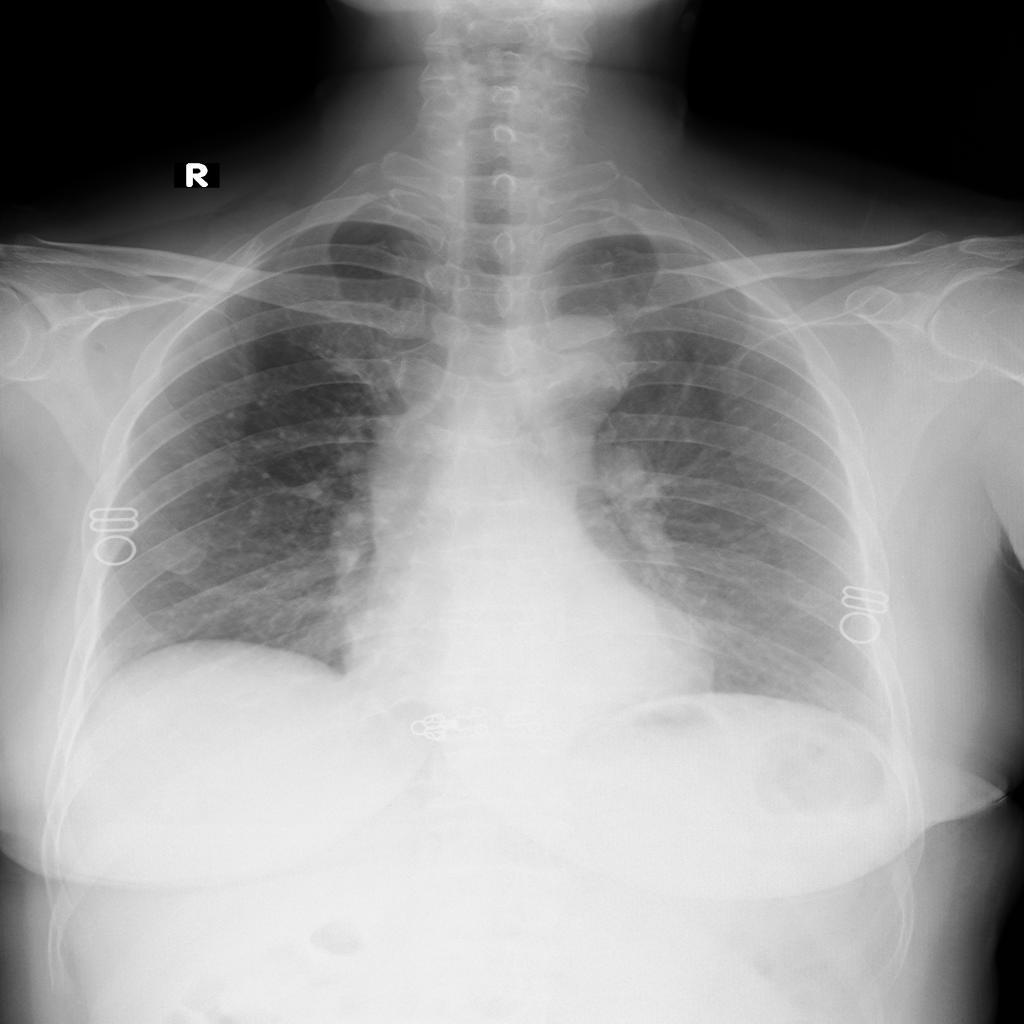Nodule: (287, 482, 325, 505), (276, 423, 303, 443), (254, 393, 270, 405), (223, 412, 236, 421)
